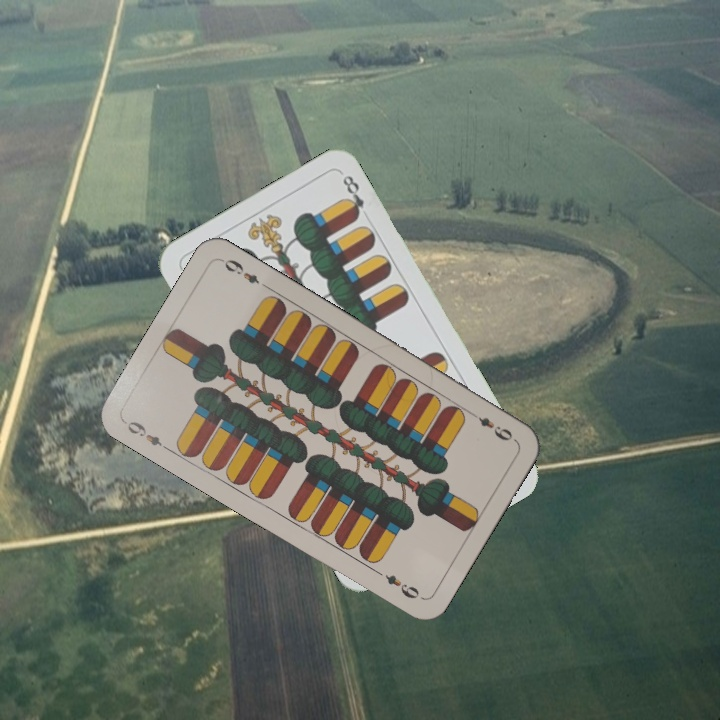E9: (120, 417, 173, 454), (466, 407, 518, 444)
